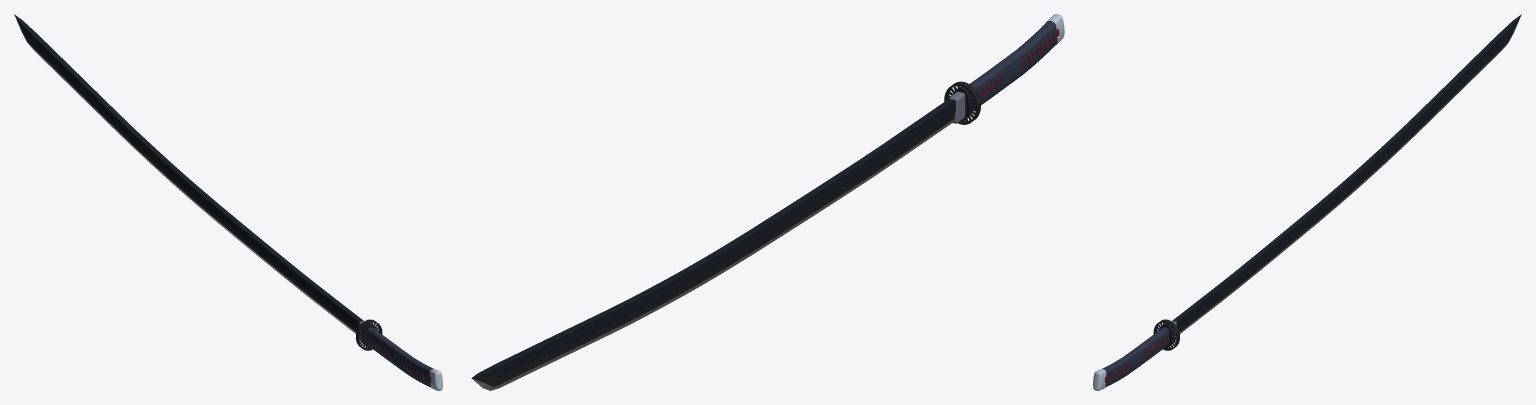
File: katana.glb
3 renders of one model, left to right at view 1: azimuth 30°, elevation 25°; view 2: azimuth 150°, elevation 25°; view 3: azimuth 330°, elevation 25°, orthographic. The views are drawn at different scales.
Visible parts, largest first — view 1: Blade, HiltDecoration, Hilt, Guard; view 2: Blade, HiltDecoration, Guard, Hilt, HiltDecoration2; view 3: Blade, HiltDecoration, Hilt, Guard.
Boxes of the visible parts, x1,y1,x2,y2 form: Blade: (14, 14, 364, 340); HiltDecoration: (367, 327, 433, 387); Hilt: (367, 335, 442, 390); Guard: (356, 319, 382, 350); Blade: (471, 91, 965, 390); HiltDecoration: (969, 21, 1057, 108); Guard: (944, 81, 980, 124); Hilt: (972, 14, 1064, 104); HiltDecoration2: (996, 51, 1022, 89); Blade: (1171, 14, 1521, 340); HiltDecoration: (1102, 327, 1168, 387); Hilt: (1093, 335, 1168, 390); Guard: (1153, 319, 1179, 350).
Size of the model in its own units: 0.1003 by 0.2999 by 3.06.
